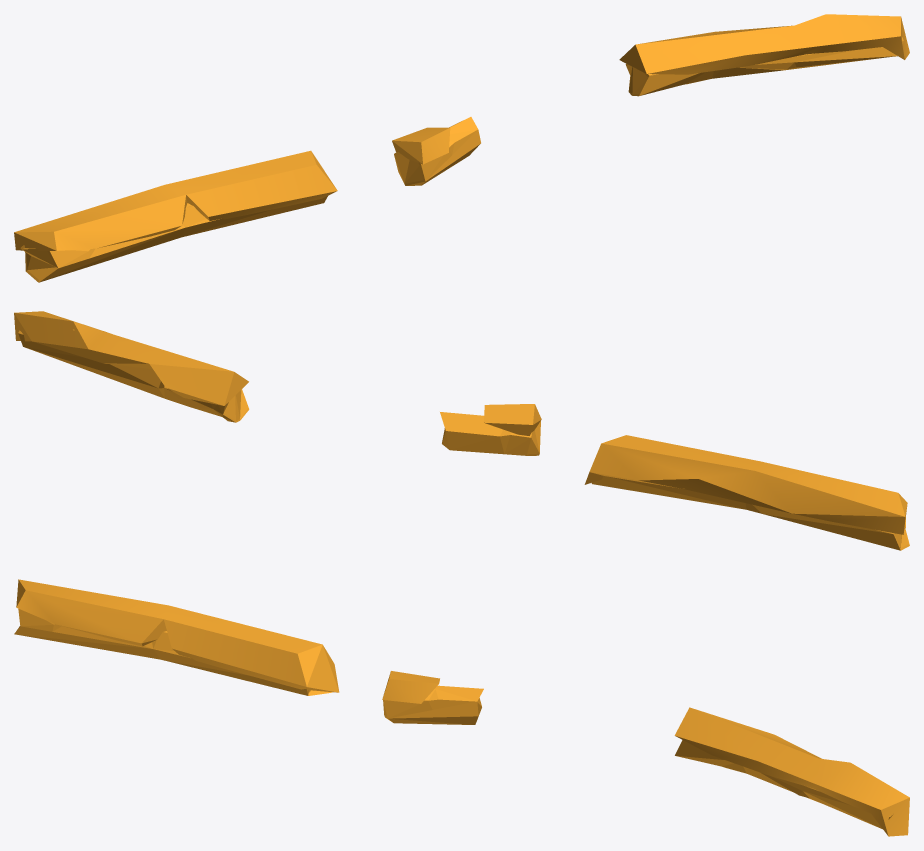
The model's file is SM_Tree_Birch_Fallen_A_Snow.fbx.
3 views of the same model, one above another, from view 1: azimuth 30°, elevation 25°; view 2: azimuth 150°, elevation 25°; view 3: azimuth 330°, elevation 25° (orthographic).
Parts seen in each view (by area): view 1: tree-birch-fallen-a-snow; view 2: tree-birch-fallen-a-snow; view 3: tree-birch-fallen-a-snow.
Boxes of the visible parts, x1,y1,x2,y2 form: tree-birch-fallen-a-snow: (14, 14, 909, 282); tree-birch-fallen-a-snow: (14, 311, 909, 550); tree-birch-fallen-a-snow: (14, 579, 909, 836).
Size of the model in its own units: 5.54 by 0.3091 by 0.6824.
